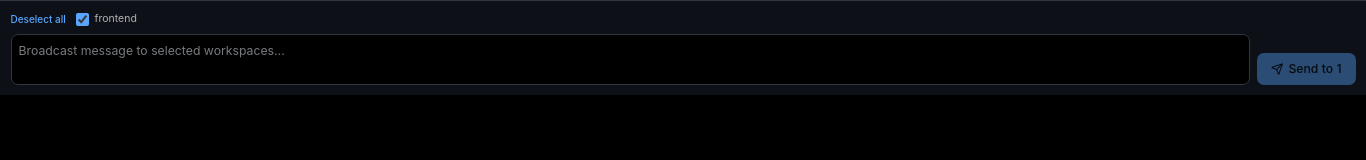
Test: BroadcastComposer › send button is disabled when no workspaces selected
// Type a message first
Type "hello" into the text box with placeholder "Broadcast message to selected workspaces...". click: (630, 59)
box: [10,34,1250,84]
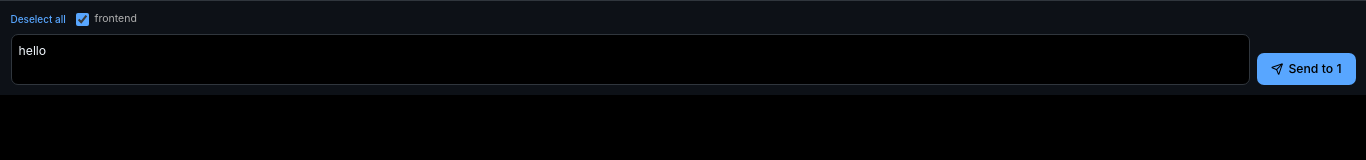
// Deselect all
Click the button "Deselect all". click: (38, 19)
box: [10,12,66,26]
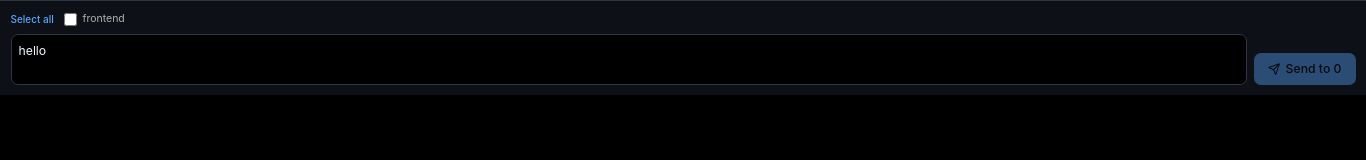
Check: the button "Send to 0" is disabled, box [1254,53,1356,84]
